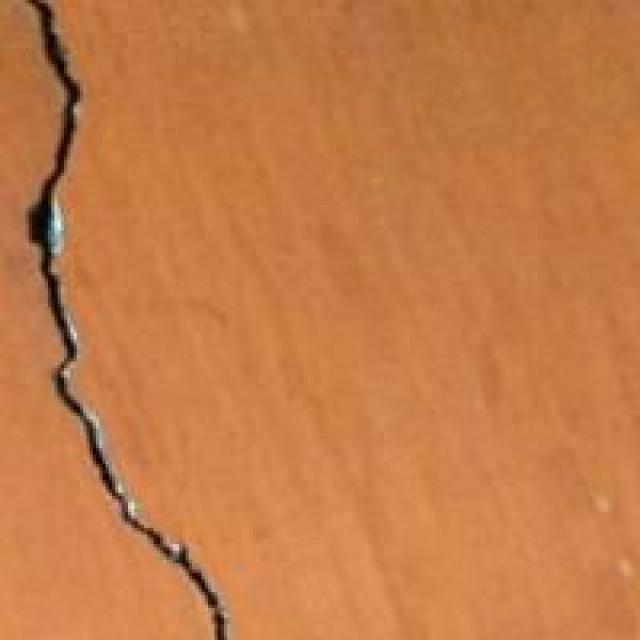crack: (10, 0, 236, 637)
